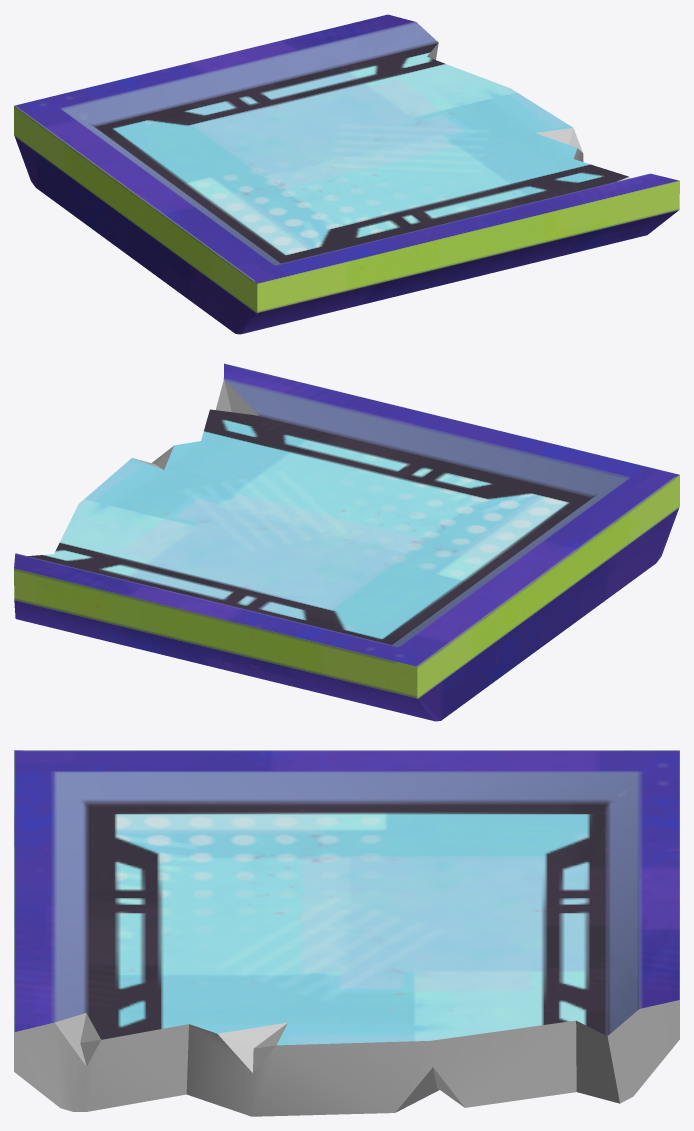
Rendered from SM_Platform5x4_Cassé_01.fbx.
3 views of the same model, one above another, from view 1: azimuth 30°, elevation 25°; view 2: azimuth 150°, elevation 25°; view 3: azimuth 270°, elevation 25° (orthographic). The views are drawn at different scales.
Parts seen in each view (by area): view 1: SM_Platform5x4_Cassé_01; view 2: SM_Platform5x4_Cassé_01; view 3: SM_Platform5x4_Cassé_01.
Boxes of the visible parts, <box> form: SM_Platform5x4_Cassé_01: <box>14,14,679,334</box>; SM_Platform5x4_Cassé_01: <box>14,363,679,721</box>; SM_Platform5x4_Cassé_01: <box>14,750,679,1116</box>.
Size of the model in its own units: 4.01 by 0.6 by 4.
